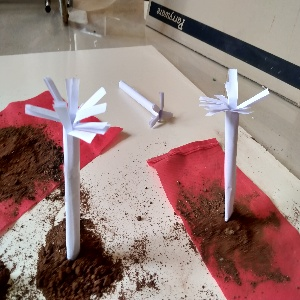weed: (18, 76, 102, 279), (192, 64, 259, 240), (116, 75, 180, 132)
